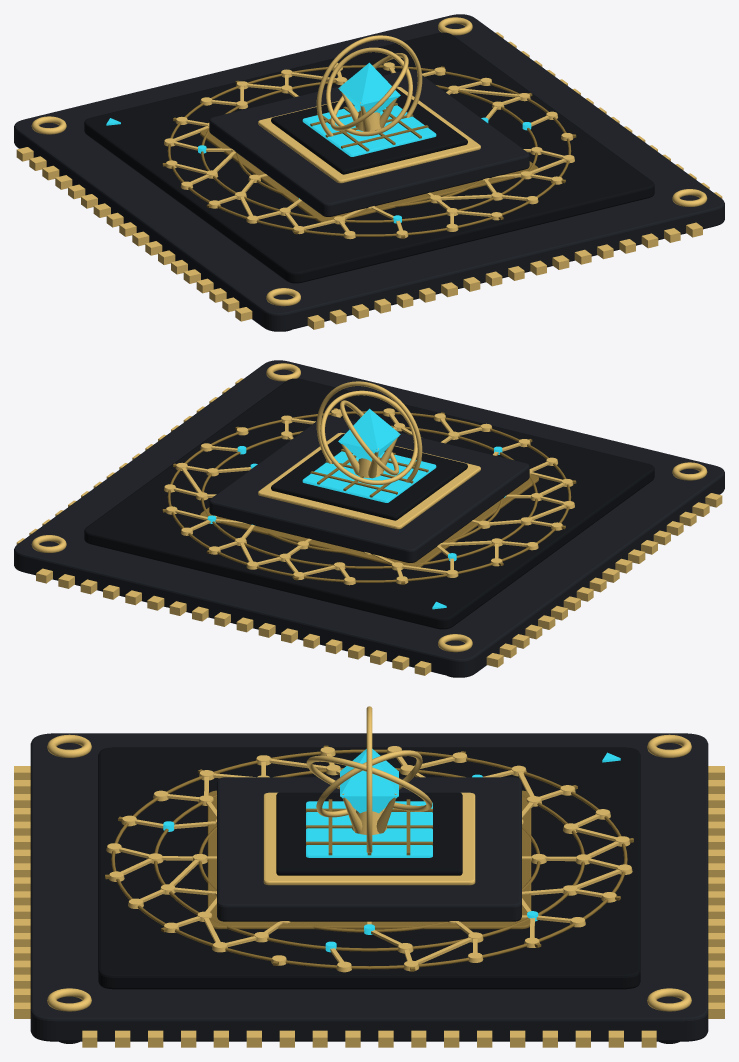
The model's file is quantum-ai-processor-chip.glb.
The picture shows the model from 3 angles, top to bottom: view 1: azimuth 30°, elevation 25°; view 2: azimuth 150°, elevation 25°; view 3: azimuth 270°, elevation 25°; orthographic projection. The views are drawn at different scales.
Parts seen in each view (by area): view 1: substrate_base, interposer, die_platform, die_core, die_window_frame, quantum_well, bus_ring_2, die_seat, bus_ring_1, core_qubit, core_orbital_2, core_orbital_0 (+1 smaller); view 2: substrate_base, interposer, die_platform, die_core, die_window_frame, quantum_well, bus_ring_2, die_seat, bus_ring_1, core_qubit, core_orbital_1, core_orbital_0 (+1 smaller); view 3: substrate_base, interposer, die_platform, die_core, die_window_frame, quantum_well, die_seat, bus_ring_2, bus_ring_1, core_qubit, core_orbital_1, core_orbital_2 (+6 smaller).
Part boxes in pixels (<box>): substrate_base: <box>14,14,724,331</box>; interposer: <box>84,32,654,283</box>; die_platform: <box>209,69,529,216</box>; die_core: <box>271,88,467,174</box>; die_window_frame: <box>258,86,480,183</box>; quantum_well: <box>302,105,436,156</box>; bus_ring_2: <box>167,65,571,236</box>; die_seat: <box>200,128,538,222</box>; bus_ring_1: <box>201,79,537,222</box>; core_qubit: <box>338,62,400,112</box>; core_orbital_2: <box>326,47,412,136</box>; core_orbital_0: <box>316,35,422,136</box>; substrate_base: <box>14,360,724,677</box>; interposer: <box>84,378,654,629</box>; die_platform: <box>209,415,529,562</box>; die_core: <box>271,434,467,520</box>; die_window_frame: <box>258,432,480,529</box>; quantum_well: <box>302,451,436,502</box>; bus_ring_2: <box>167,411,571,582</box>; die_seat: <box>200,474,538,569</box>; bus_ring_1: <box>201,425,537,568</box>; core_qubit: <box>338,408,400,461</box>; core_orbital_1: <box>320,390,417,484</box>; core_orbital_0: <box>316,381,422,482</box>; substrate_base: <box>30,733,708,1041</box>; interposer: <box>98,747,640,989</box>; die_platform: <box>217,777,521,921</box>; die_core: <box>276,792,462,875</box>; die_window_frame: <box>263,792,475,885</box>; quantum_well: <box>306,801,432,857</box>; die_seat: <box>207,790,531,929</box>; bus_ring_2: <box>111,749,627,969</box>; bus_ring_1: <box>154,768,584,951</box>; core_qubit: <box>340,749,398,813</box>; core_orbital_1: <box>306,755,432,811</box>; core_orbital_2: <box>316,750,422,817</box>.
Size of the model in its own units: 0.1678 by 0.0516 by 0.1678.
